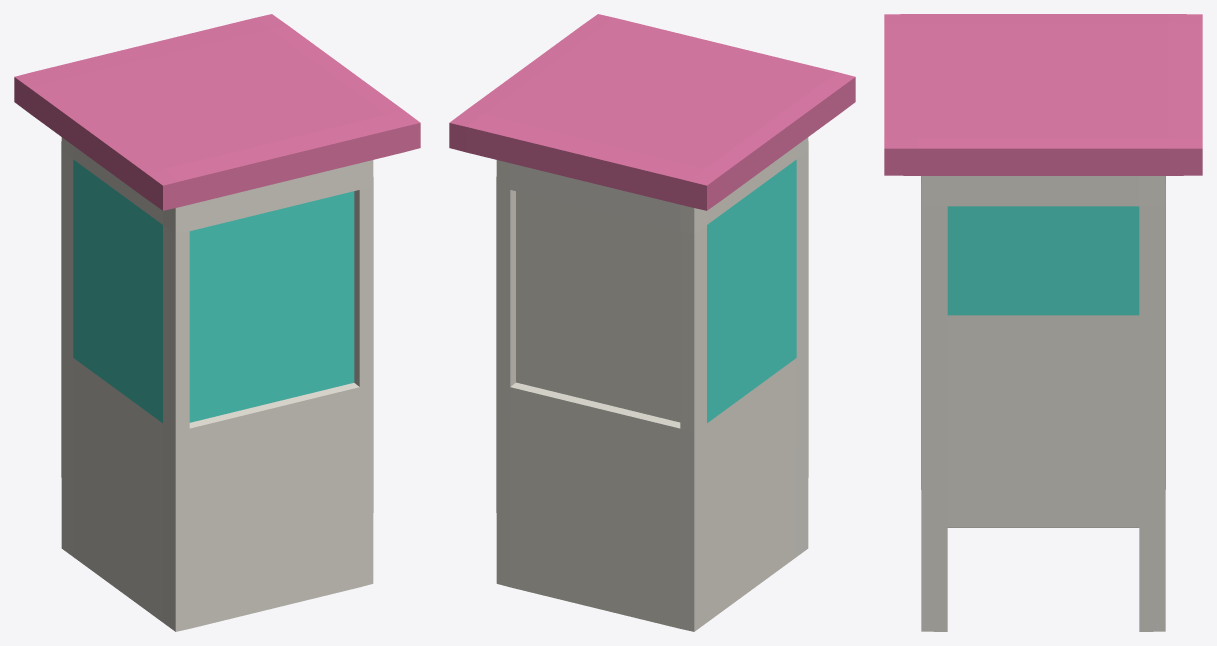
The model's file is Police huse 2.fbx.
The picture shows the model from 3 angles, left to right: view 1: azimuth 30°, elevation 25°; view 2: azimuth 150°, elevation 25°; view 3: azimuth 270°, elevation 25°; orthographic projection. The views are drawn at different scales.
Parts seen in each view (by area): view 1: Cube.001; view 2: Cube.001; view 3: Cube.001.
Part boxes in pixels (bbox=[...]): Cube.001: bbox=[14, 14, 420, 631]; Cube.001: bbox=[449, 14, 855, 631]; Cube.001: bbox=[884, 14, 1202, 631].
Bounding box in the file's own units: 169 × 294 × 169.
